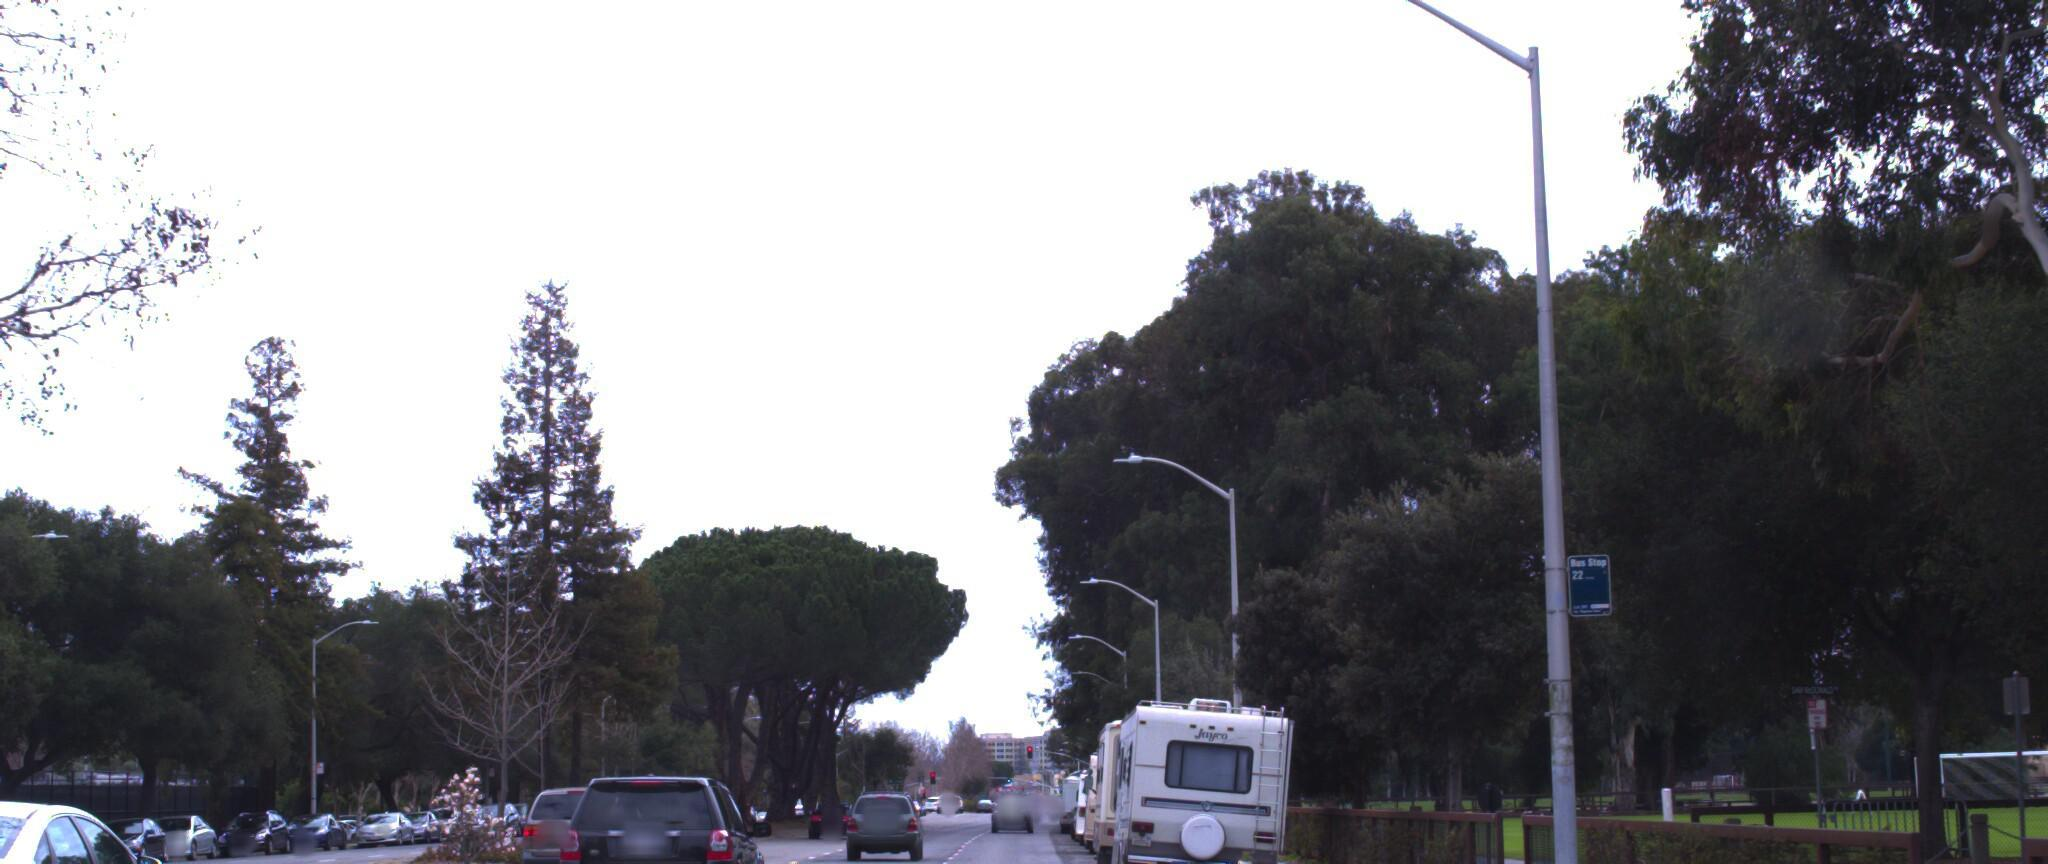car: (552, 754, 772, 864), (0, 774, 223, 864), (516, 756, 669, 864), (856, 767, 931, 838)
other_vehicle: (1093, 668, 1298, 864), (1078, 683, 1228, 864)
